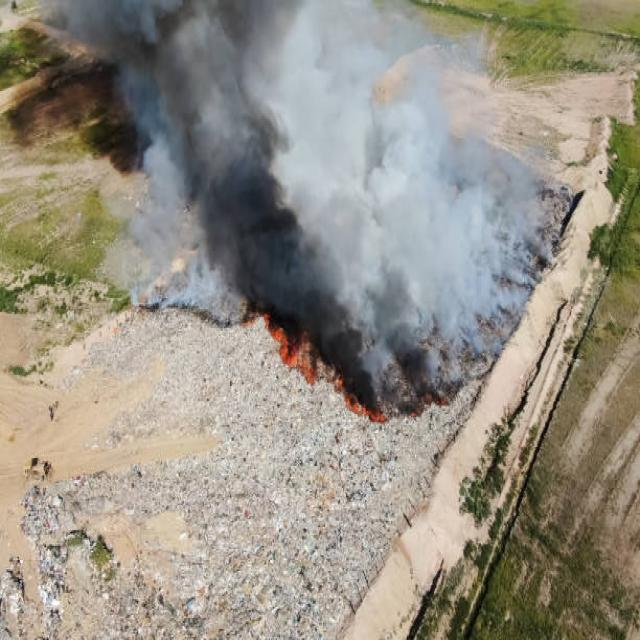Smoke: (70, 0, 516, 381)
